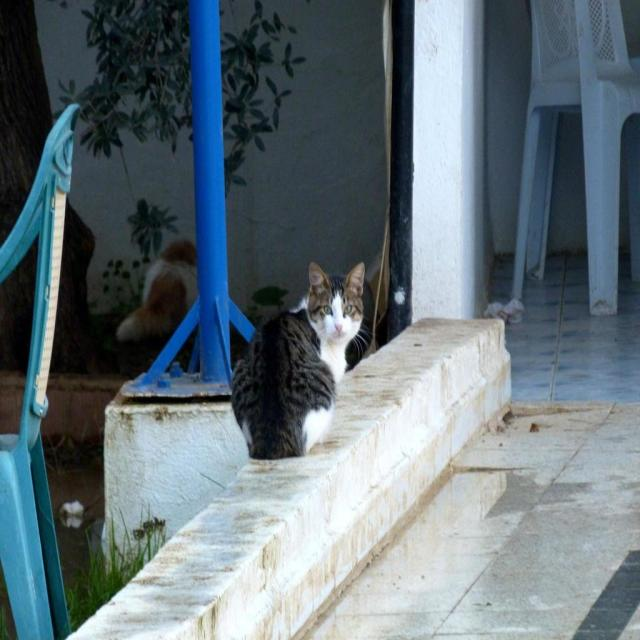Cat: (230, 253, 374, 469)
